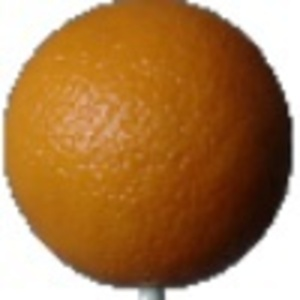laranja: (2, 2, 294, 290)
